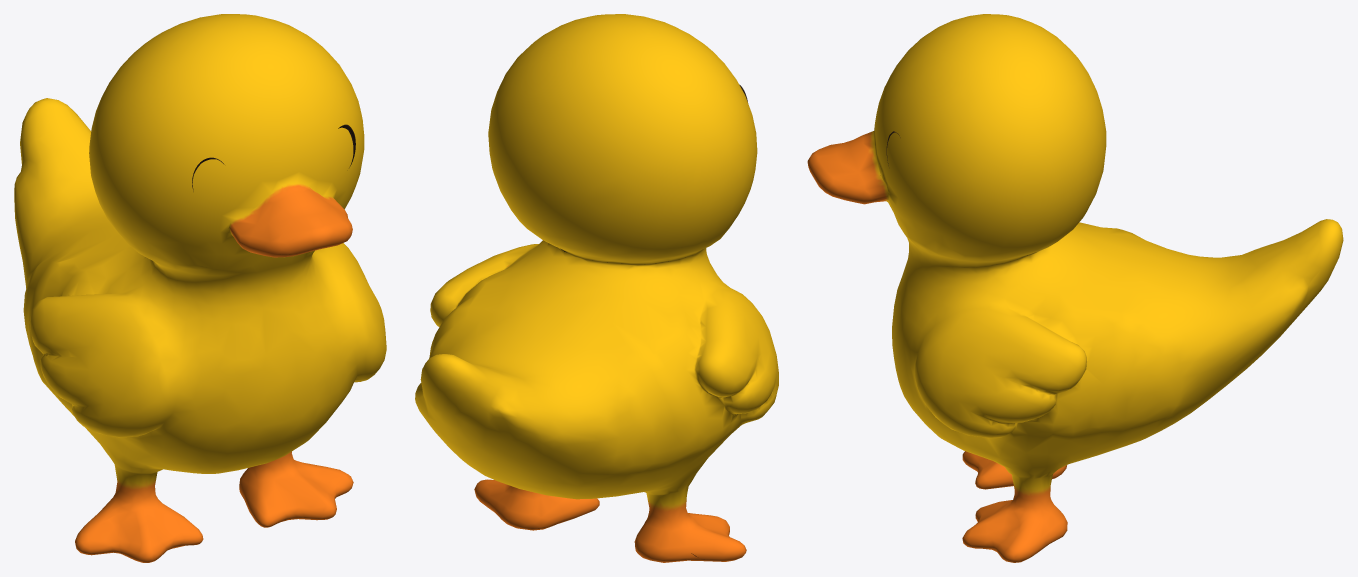
Rendered from duck__v03.glb.
3 renders of one model, left to right at view 1: azimuth 30°, elevation 25°; view 2: azimuth 150°, elevation 25°; view 3: azimuth 270°, elevation 25°, orthographic. The views are drawn at different scales.
Visible parts, largest first — view 1: duck_body; view 2: duck_body; view 3: duck_body.
Boxes of the visible parts, x1,y1,x2,y2 form: duck_body: (14,14,386,562); duck_body: (415,14,778,562); duck_body: (807,14,1343,562).
Size of the model in its own units: 0.1964 by 0.2985 by 0.3024.
Materials: 2 (1 with a texture image).
